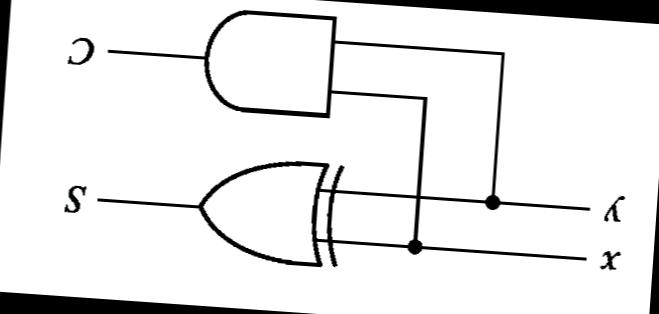and: (194, 0, 347, 123)
xor: (168, 146, 365, 276)
